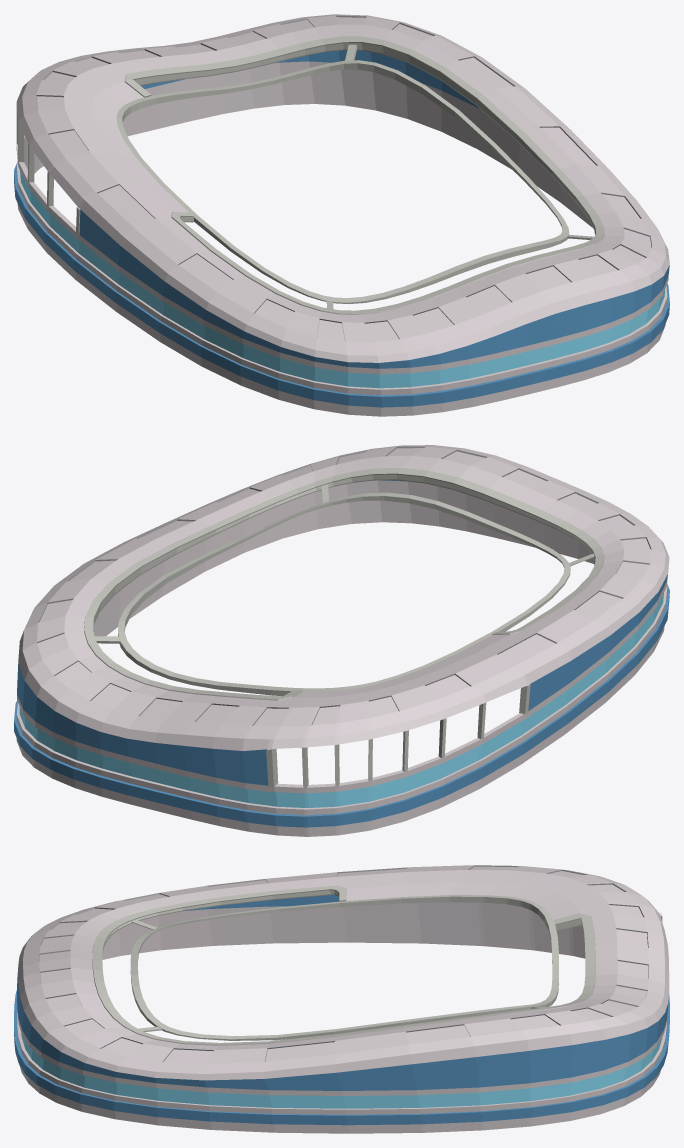
The model's file is Complemento Estadio Oval.fbx.
The picture shows the model from 3 angles, top to bottom: view 1: azimuth 30°, elevation 25°; view 2: azimuth 150°, elevation 25°; view 3: azimuth 270°, elevation 25°; orthographic projection. The views are drawn at different scales.
Parts seen in each view (by area): view 1: Complemento Estadio Oval; view 2: Complemento Estadio Oval; view 3: Complemento Estadio Oval.
Part boxes in pixels (x1,y1,x2,y2): Complemento Estadio Oval: [14, 14, 669, 416]; Complemento Estadio Oval: [14, 445, 669, 836]; Complemento Estadio Oval: [14, 865, 669, 1133].
Size of the model in its own units: 22694 by 5121 by 32211.
